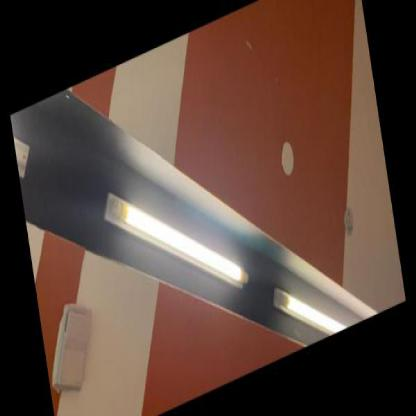light_on: (91, 124, 254, 350), (269, 249, 348, 358)
